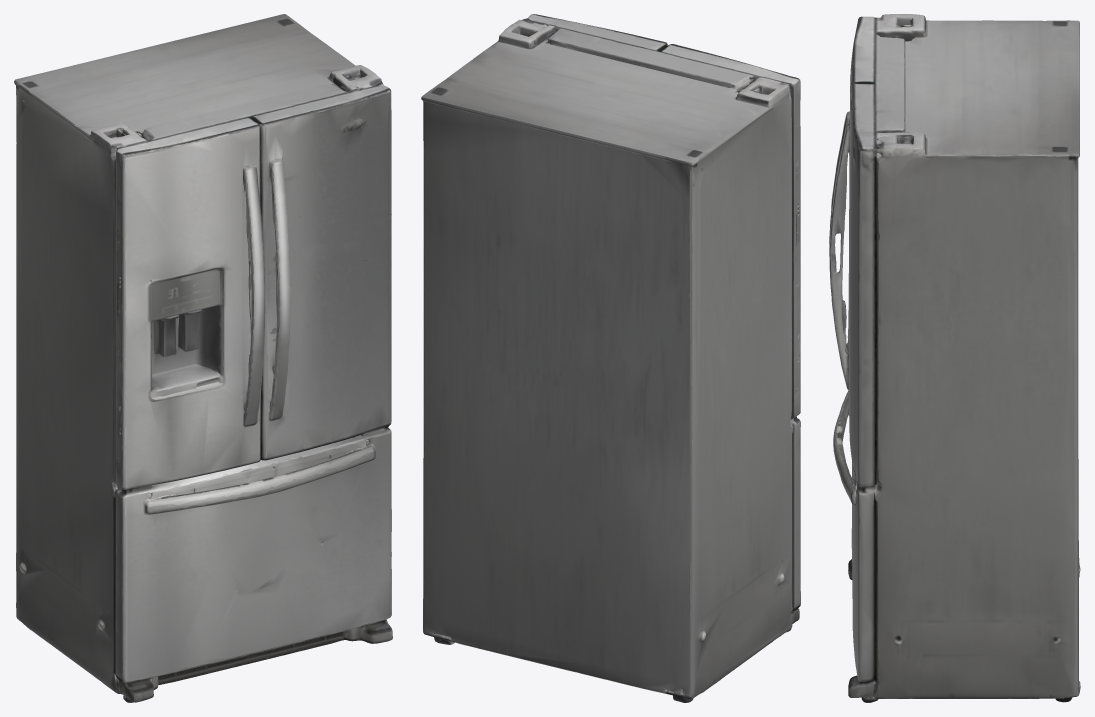
The model's file is refrigerator.glb.
3 views of the same model, side by side, from view 1: azimuth 30°, elevation 25°; view 2: azimuth 150°, elevation 25°; view 3: azimuth 270°, elevation 25° (orthographic).
Visible parts, largest first — view 1: geometry_0; view 2: geometry_0; view 3: geometry_0.
Boxes of the visible parts, left/top/right/bottom form: geometry_0: left=14, top=14, right=392, bottom=702; geometry_0: left=421, top=14, right=800, bottom=702; geometry_0: left=829, top=14, right=1080, bottom=702.
Bounding box in the file's own units: 1.75 × 3.38 × 1.37.
Materials: 1 (1 with a texture image).
